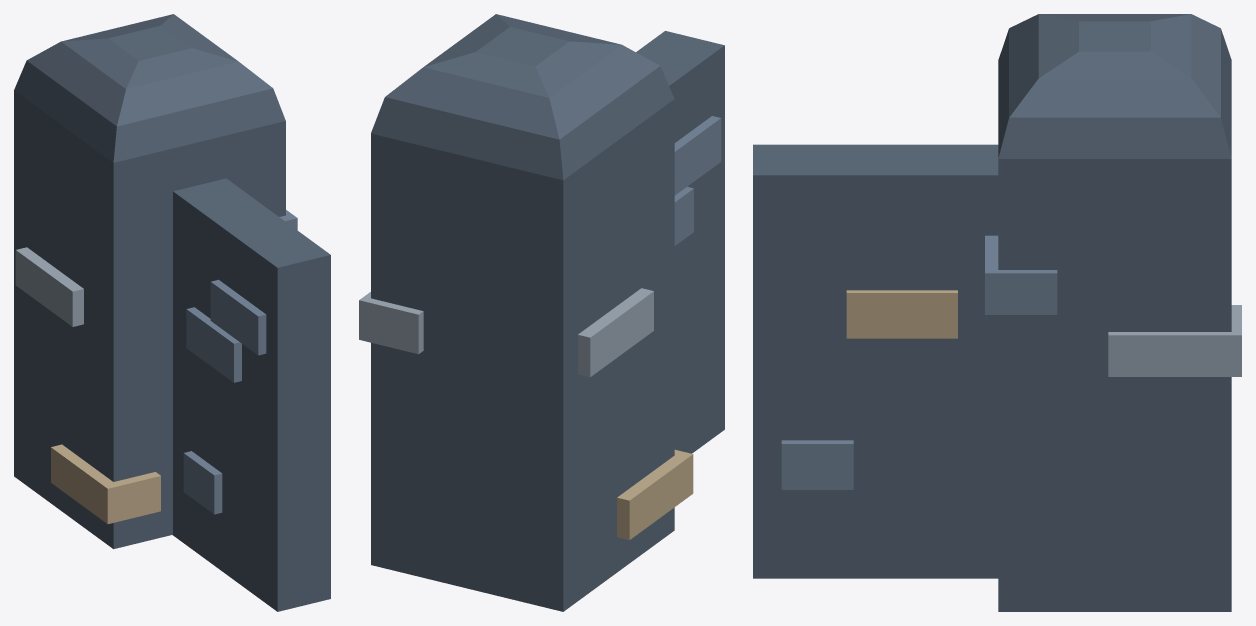
Rendered from wall2.fbx.
The picture shows the model from 3 angles, left to right: view 1: azimuth 30°, elevation 25°; view 2: azimuth 150°, elevation 25°; view 3: azimuth 270°, elevation 25°; orthographic projection. The views are drawn at different scales.
Parts seen in each view (by area): view 1: wall2; view 2: wall2; view 3: wall2.
Part boxes in pixels (box(x1,y1,x2,y2)): wall2: box(14, 14, 330, 611); wall2: box(359, 14, 724, 611); wall2: box(753, 14, 1241, 611).
Bounding box in the file's own units: 71.18 × 161 × 135.
